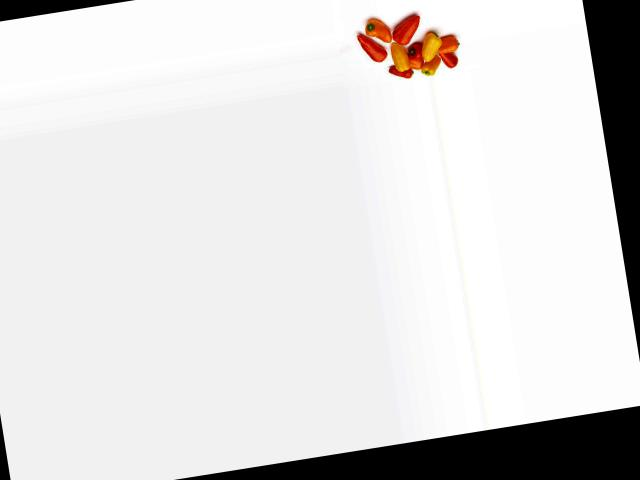bell_pepper: (385, 65, 415, 82)
